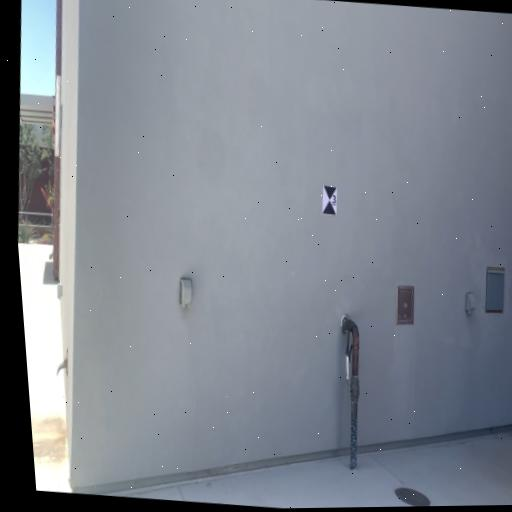target3: (322, 184, 337, 216)
